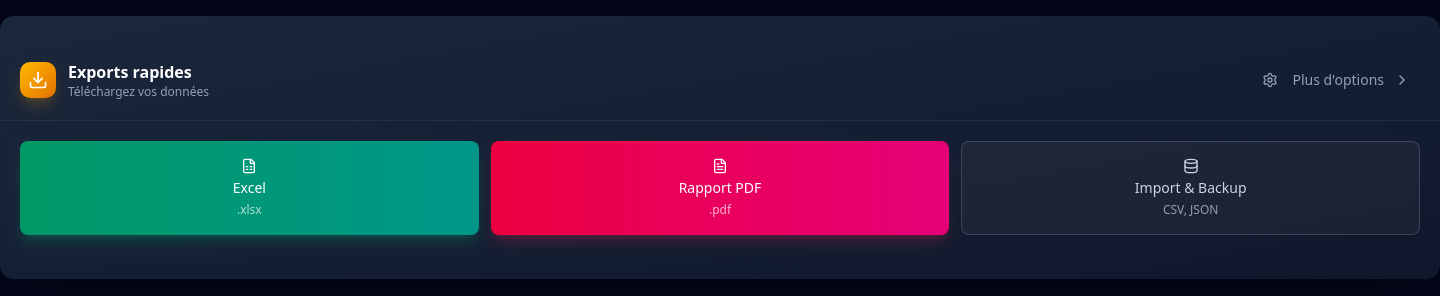
ExportExcelButton › état de chargement › devrait désactiver les deux boutons pendant un export Excel
Click the button "Excel .xlsx" at x=249, y=188, box x1=20 y1=141 x2=479 y2=235
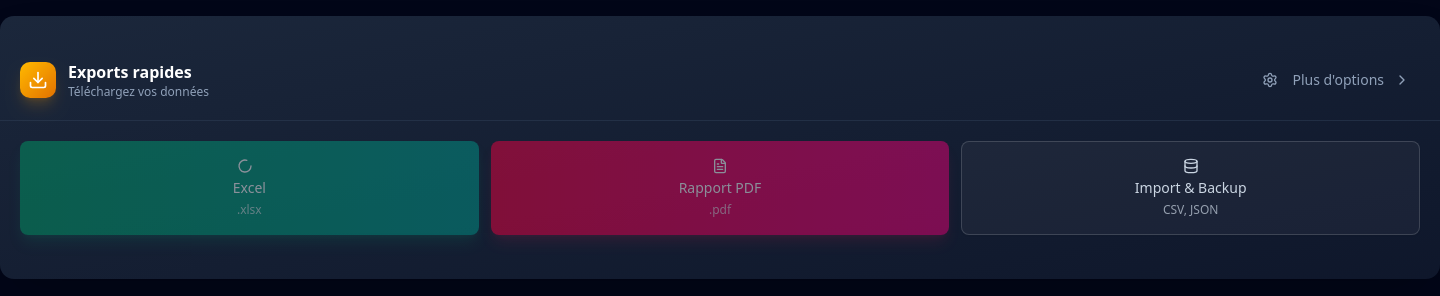
expect the button "Rapport PDF .pdf" is disabled: met, box x1=491 y1=141 x2=949 y2=235
